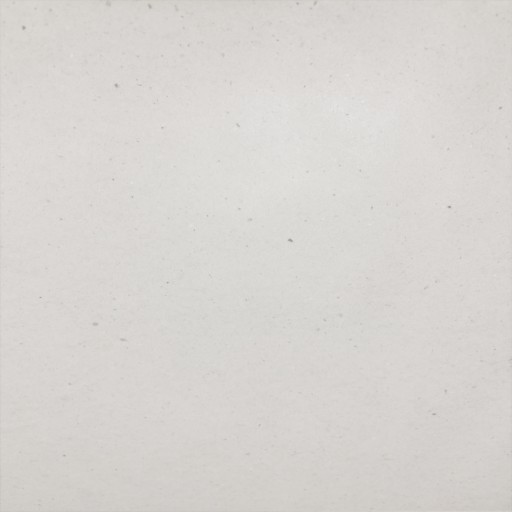lego: (223, 211, 290, 298)
